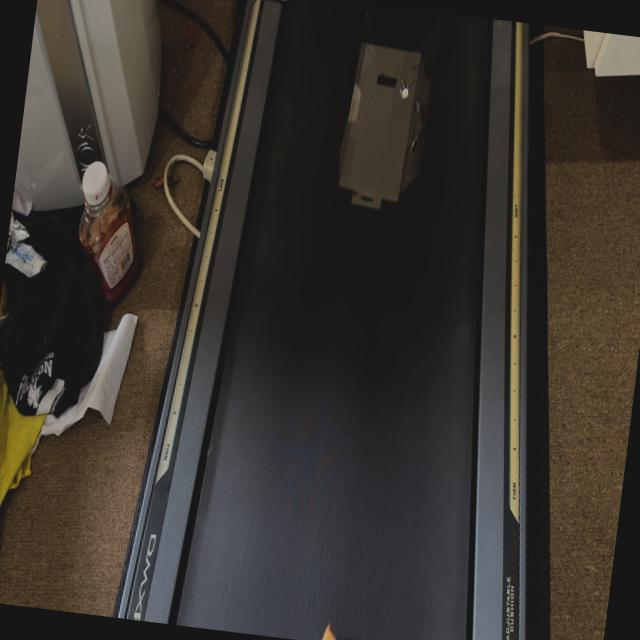Trash: (332, 25, 440, 216)
